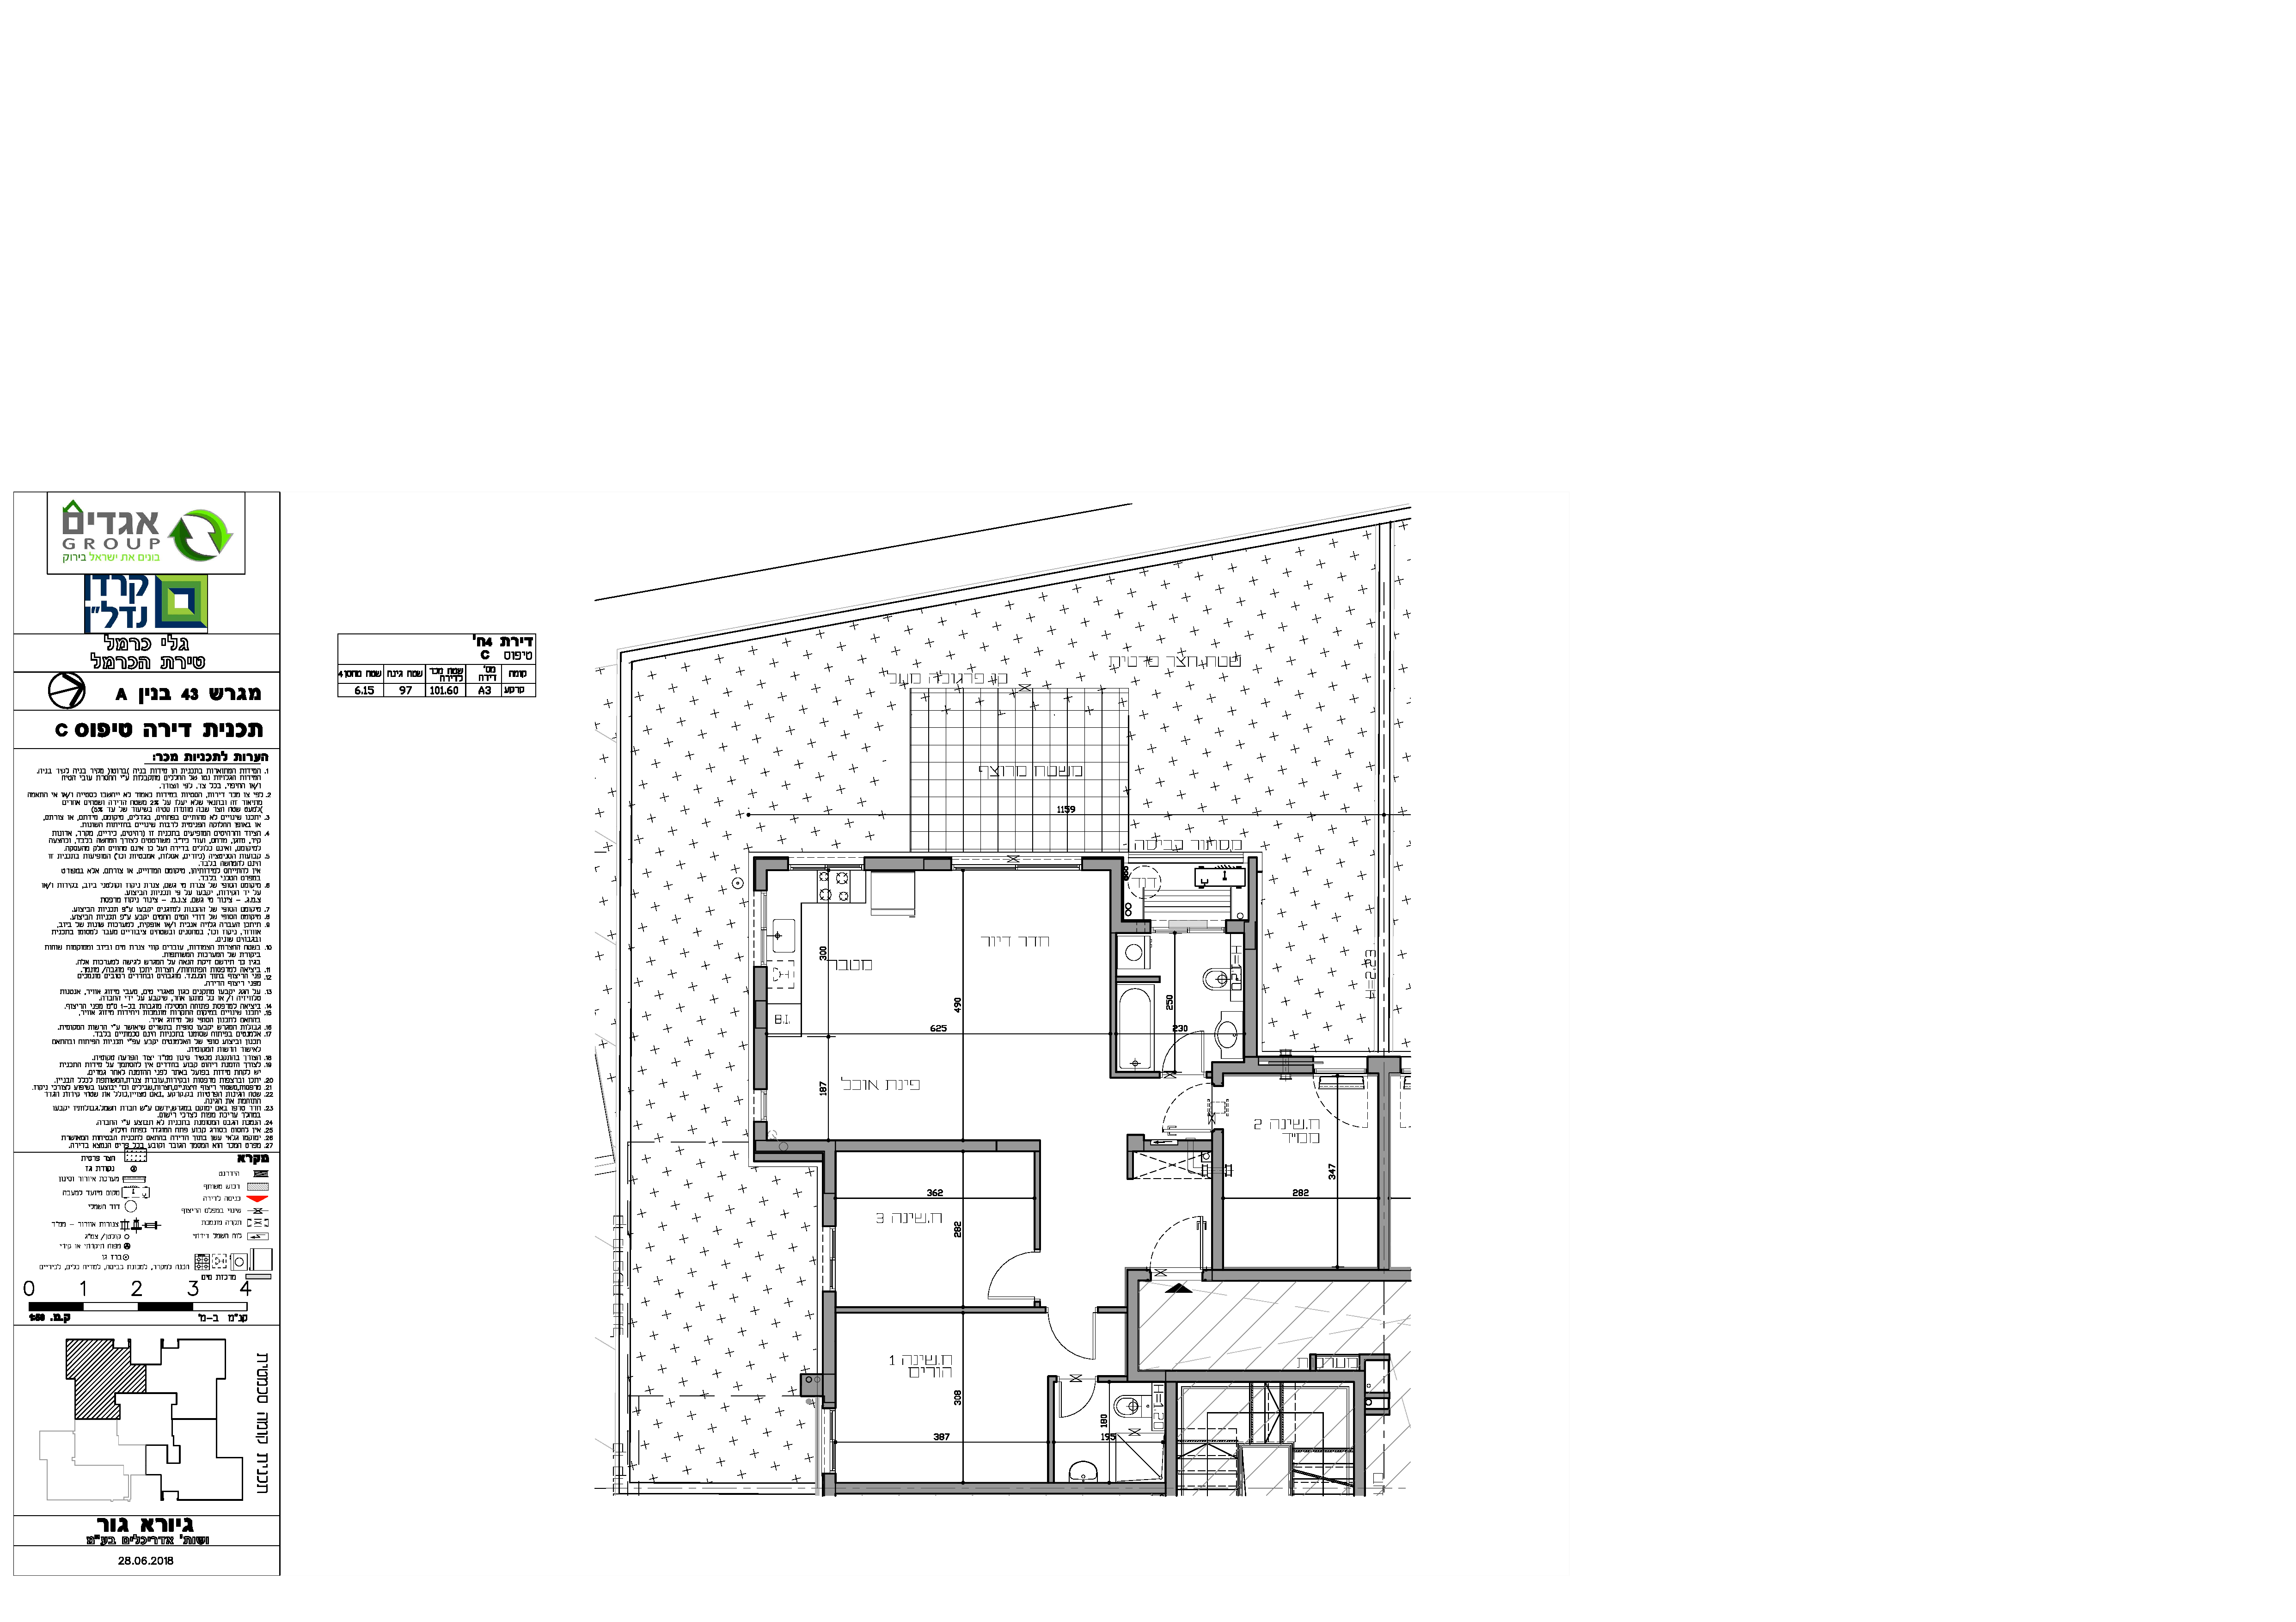door: (1035, 1320, 1109, 1364), (1145, 1085, 1207, 1134), (980, 1241, 1028, 1303), (1149, 1211, 1207, 1259), (1058, 1387, 1096, 1425)
wall: (1172, 1373, 1359, 1380), (1356, 1374, 1365, 1490), (1216, 1273, 1407, 1278), (1128, 1274, 1137, 1376), (840, 1143, 995, 1148), (1247, 953, 1254, 1050), (838, 1308, 1026, 1311), (824, 1297, 833, 1369), (1214, 1174, 1221, 1264), (1112, 864, 1121, 932), (1168, 1389, 1173, 1492), (824, 1145, 833, 1188)
window: (788, 855, 865, 876), (817, 1408, 842, 1473), (819, 1225, 840, 1292), (951, 862, 1082, 872), (758, 890, 768, 967)
